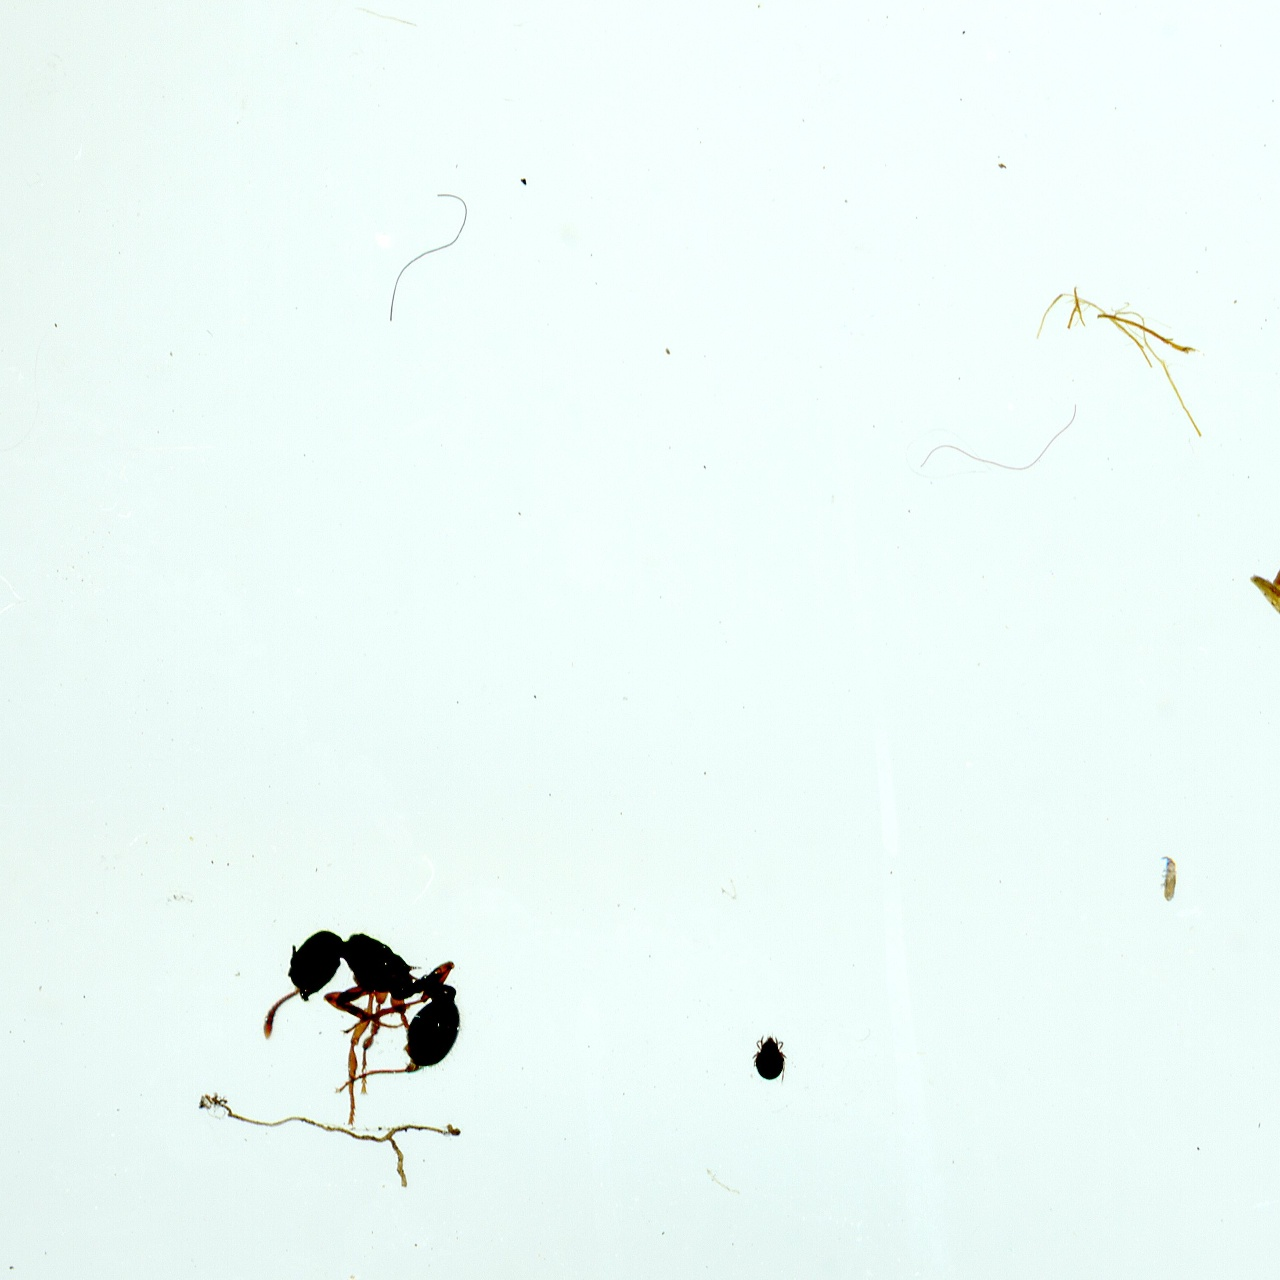arthropod: (257, 919, 468, 1130), (744, 1032, 792, 1087), (307, 1261, 420, 1280), (1159, 845, 1182, 905)
